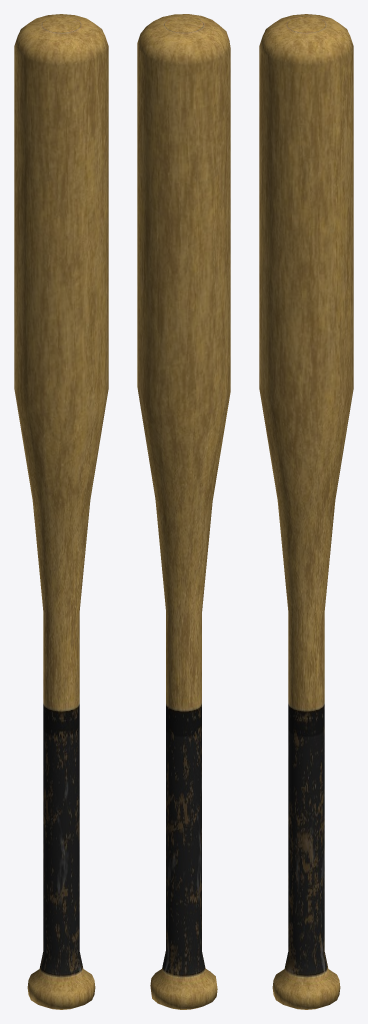
The model's file is baseball_bat.glb.
The picture shows the model from 3 angles, left to right: view 1: azimuth 90°, elevation 25°; view 2: azimuth 150°, elevation 25°; view 3: azimuth 270°, elevation 25°; orthographic projection.
Parts seen in each view (by area): view 1: BaseballBat; view 2: BaseballBat; view 3: BaseballBat.
Part boxes in pixels (x1,y1,x2,y2): BaseballBat: (14, 14, 108, 1009); BaseballBat: (137, 14, 230, 1009); BaseballBat: (259, 14, 353, 1009).
Bounding box in the file's own units: 0.0711 × 0.8121 × 0.0711.
1 material, 1 textured.
